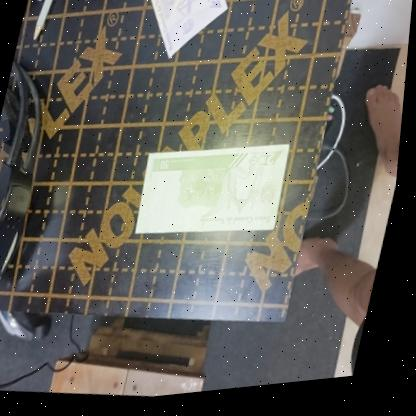fifty-back-vef: (133, 130, 297, 256)
